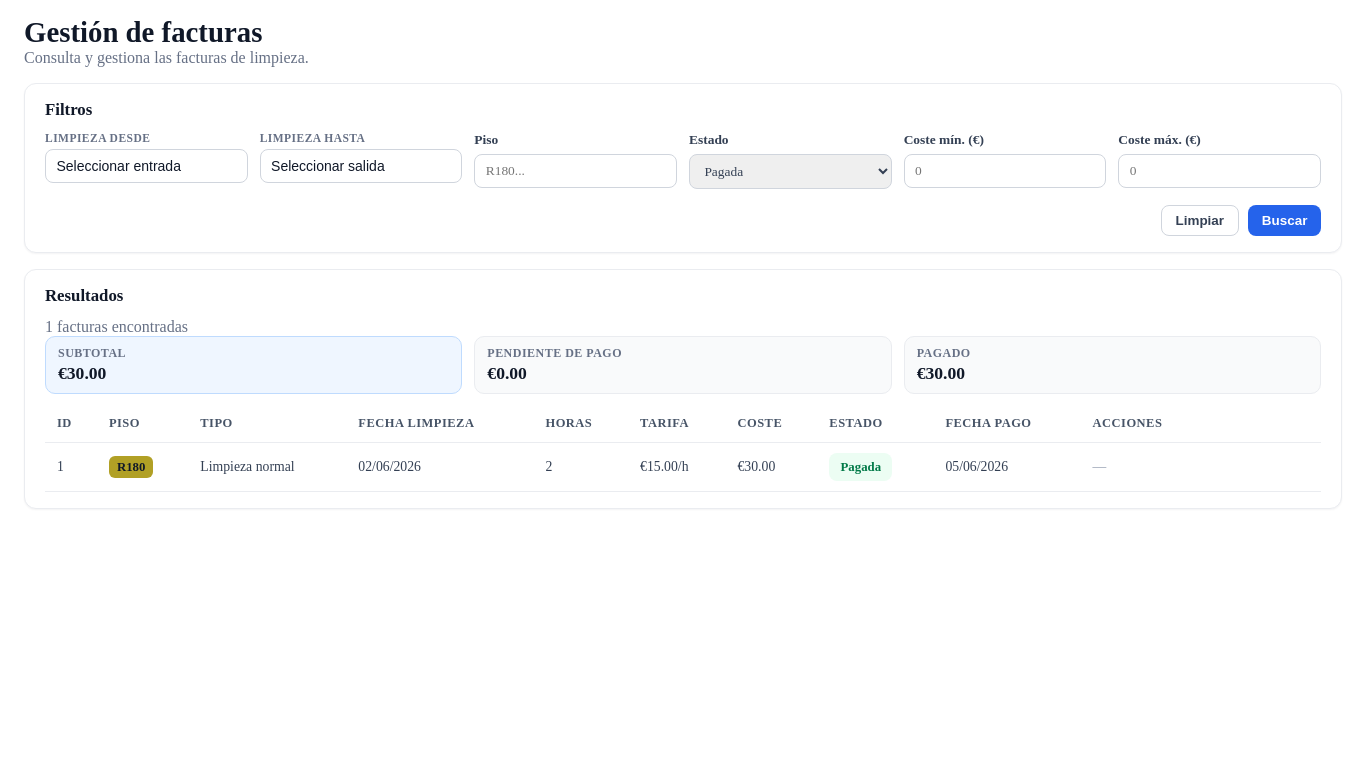
BillsComponent › muestra el sello PAGADA y la fecha de pago en el recibo de una factura pagada
The image size is (1366, 768).
Click the button with class "bill-state-chip": x=861, y=467 [829, 453, 892, 481]
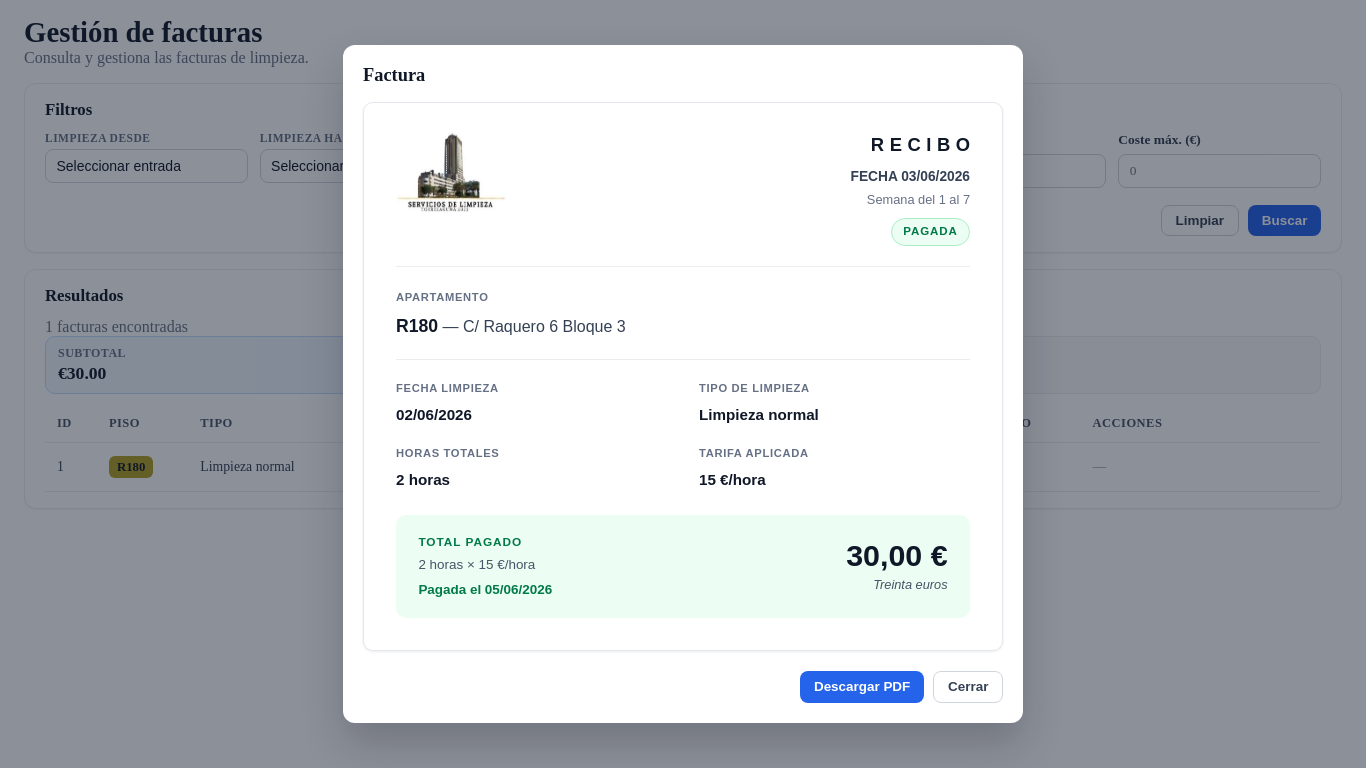
Expected: the text "PAGADA" is shown, [891, 218, 970, 246]
Expected: the text "Total pagado" is shown, [418, 535, 522, 549]
Expected: the text "Pagada el 05/06/2026" is shown, [418, 580, 552, 601]
